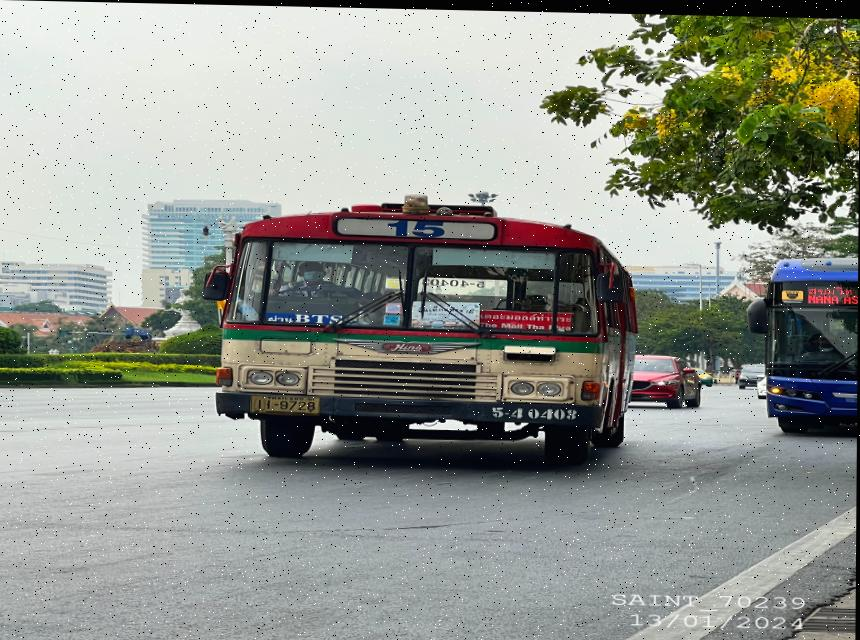BMTA-bus: (209, 194, 641, 465)
Bus Line Number: (376, 214, 459, 242)
Bus Side Number: (488, 399, 583, 422)
Destination Sign: (479, 307, 575, 329)
TSB-Bus: (755, 253, 859, 435)
